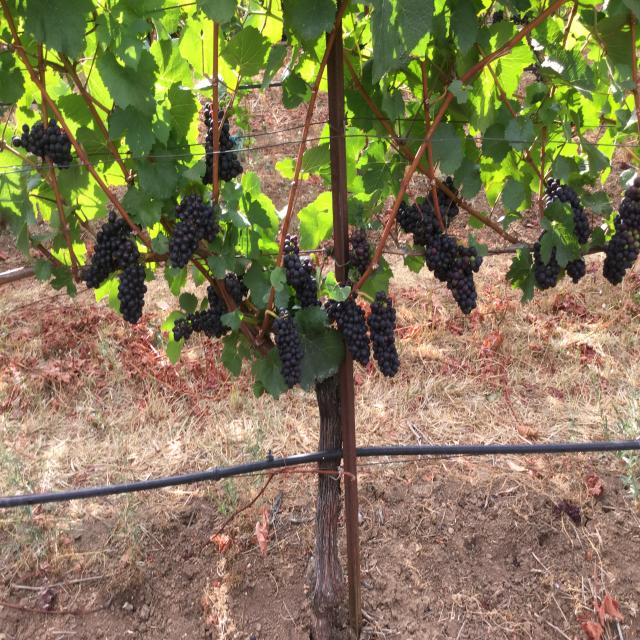grapes: (396, 198, 482, 315), (84, 212, 140, 287), (604, 178, 640, 285), (172, 285, 229, 342), (325, 297, 370, 367), (545, 177, 591, 245), (12, 118, 72, 168), (368, 292, 400, 377), (284, 235, 320, 308), (274, 308, 304, 388), (175, 193, 219, 243), (118, 263, 146, 325), (534, 230, 560, 290), (219, 120, 242, 182), (169, 222, 199, 268), (202, 103, 214, 185), (349, 228, 370, 273), (225, 273, 248, 307), (439, 192, 458, 222), (566, 257, 585, 283)
